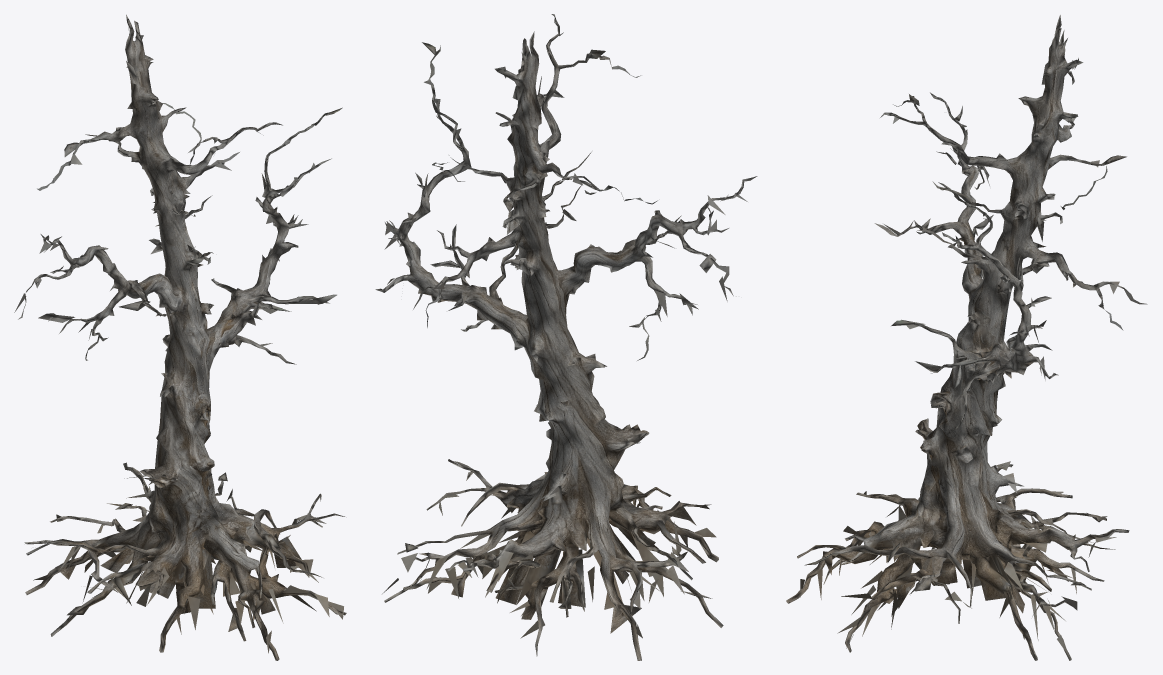
The model's file is nat-deadtree-a.fbx.
3 views of the same model, side by side, from view 1: azimuth 30°, elevation 25°; view 2: azimuth 150°, elevation 25°; view 3: azimuth 270°, elevation 25° (orthographic). The views are drawn at different scales.
Parts seen in each view (by area): view 1: Mesh_0; view 2: Mesh_0; view 3: Mesh_0.
Boxes of the visible parts, x1,y1,x2,y2 form: Mesh_0: (14,14,346,660); Mesh_0: (375,14,757,660); Mesh_0: (786,15,1147,660).
Bounding box in the file's own units: 55.66 × 95.31 × 53.91.
1 material, 1 textured.
